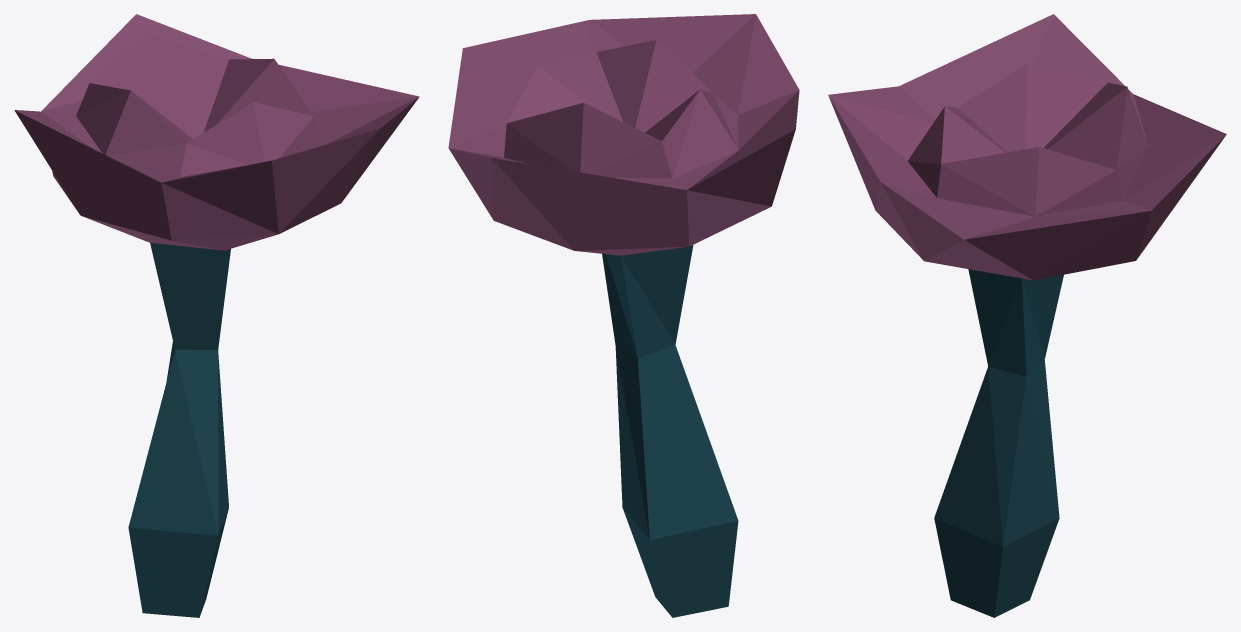
Rendered from SM_Env_Flower_01.fbx.
The picture shows the model from 3 angles, left to right: view 1: azimuth 30°, elevation 25°; view 2: azimuth 150°, elevation 25°; view 3: azimuth 270°, elevation 25°; orthographic projection. The views are drawn at different scales.
Visible parts, largest first — view 1: SM_Env_Flower_01; view 2: SM_Env_Flower_01; view 3: SM_Env_Flower_01.
Boxes of the visible parts, left/top/right/bottom form: SM_Env_Flower_01: left=14, top=14, right=419, bottom=617; SM_Env_Flower_01: left=448, top=14, right=799, bottom=617; SM_Env_Flower_01: left=828, top=14, right=1226, bottom=617.
Bounding box in the file's own units: 0.00234 × 0.00321 × 0.00218.
Materials: 1 (1 with a texture image).
